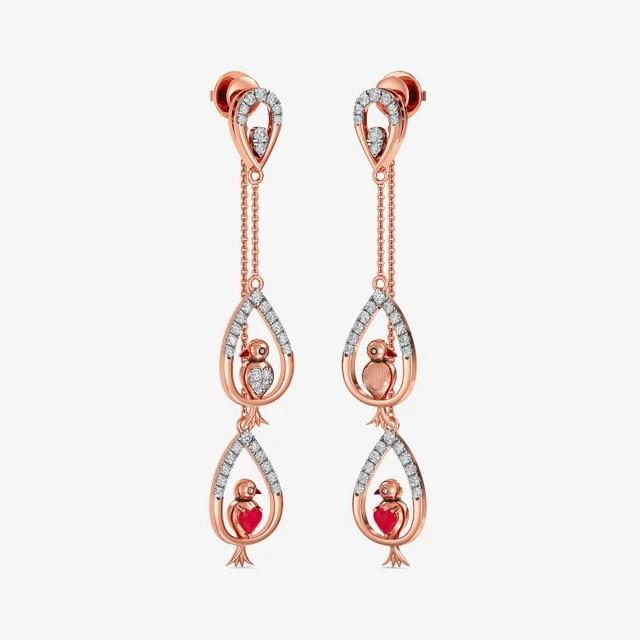missing gem: (365, 365, 388, 396)
